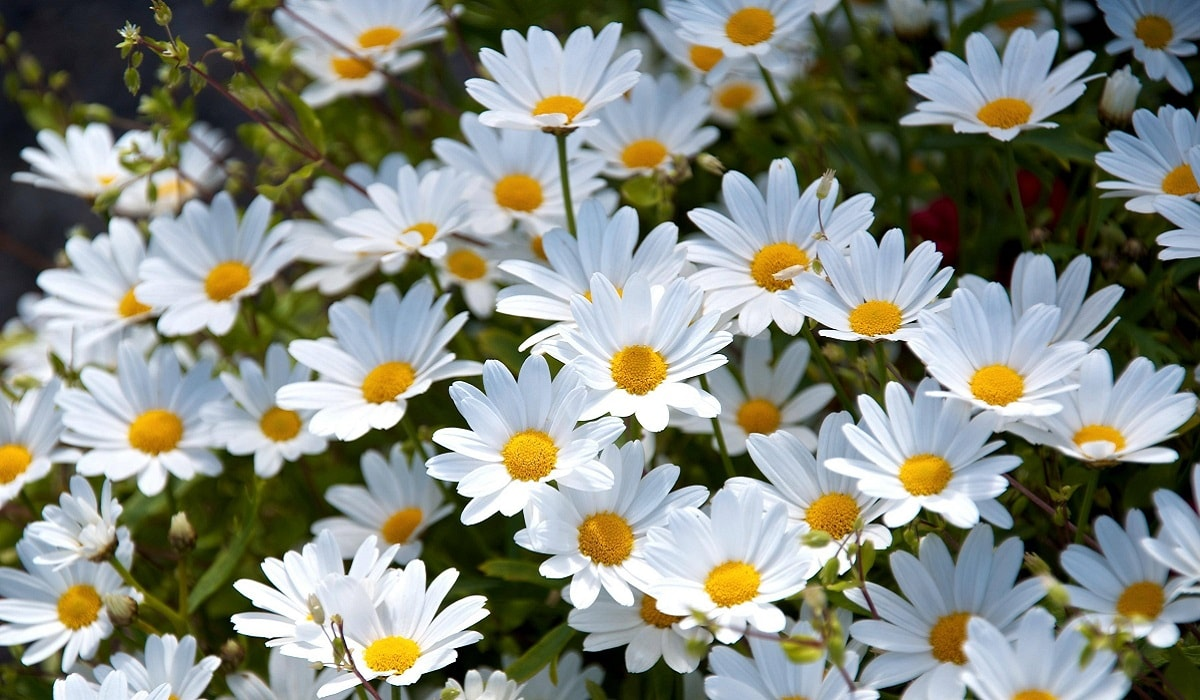papatya: (21, 24, 1200, 698)
